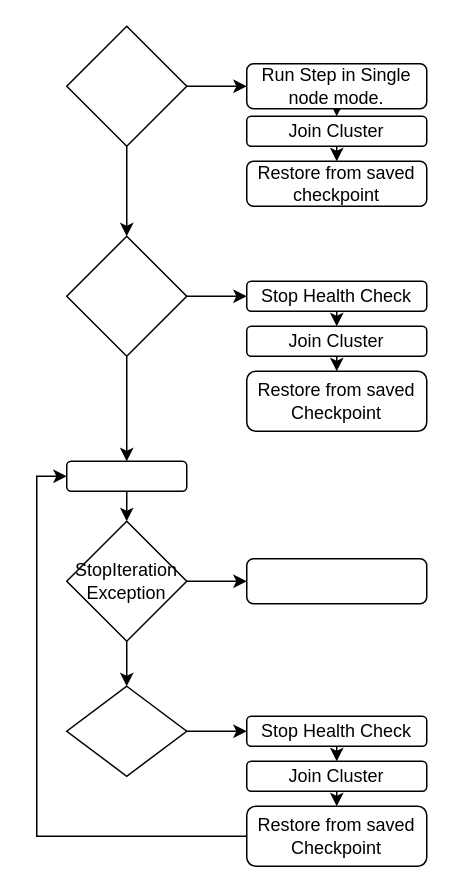
Some shapes in this 453 by 893 pixel diagram are drawn without their labels. Each missing label, with the box of its shape:
First Run?: (65, 25, 187, 146)
Log Time, Return True: (245, 557, 427, 604)
Loop Run: (65, 460, 187, 491)
Nodes waiting?: (65, 235, 187, 356)
Other Exception: (65, 685, 187, 776)
